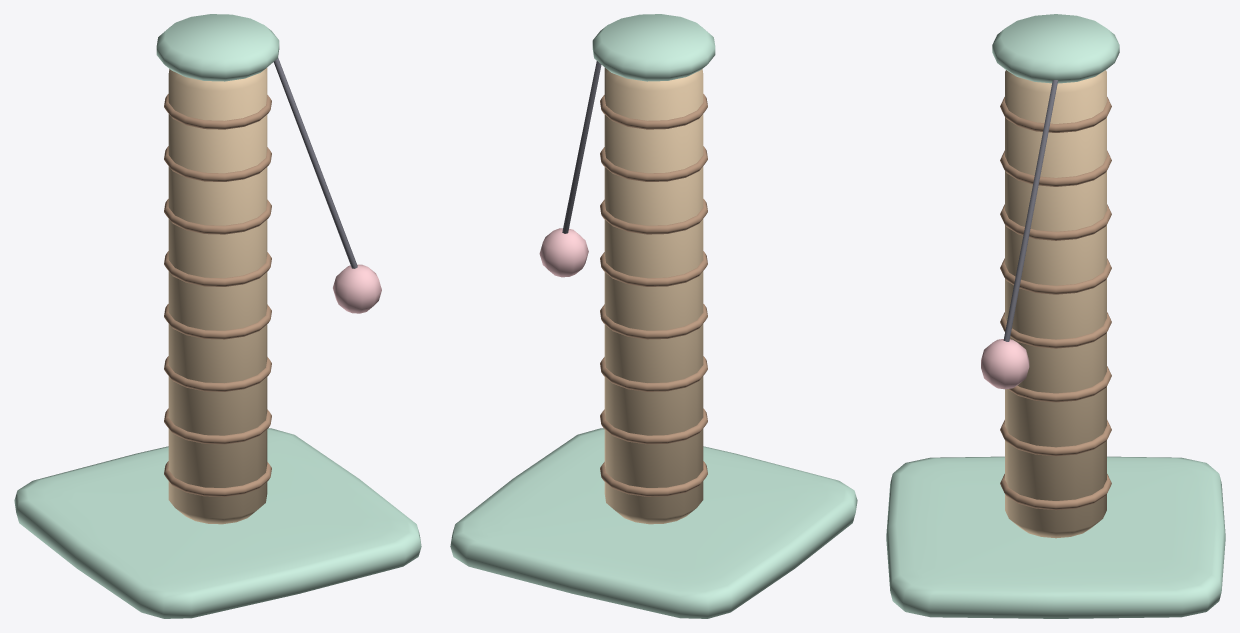
The model's file is companion-animals-and-pet-home-scratching-post-d831c92c__20630.glb.
The picture shows the model from 3 angles, left to right: view 1: azimuth 30°, elevation 25°; view 2: azimuth 150°, elevation 25°; view 3: azimuth 270°, elevation 25°; orthographic projection. The views are drawn at different scales.
Parts seen in each view (by area): view 1: scratching-post; view 2: scratching-post; view 3: scratching-post.
Part boxes in pixels (bbox=[...]): scratching-post: bbox=[14, 14, 421, 618]; scratching-post: bbox=[450, 14, 857, 618]; scratching-post: bbox=[886, 14, 1225, 618].
Bounding box in the file's own units: 0.4 × 0.67 × 0.4.
